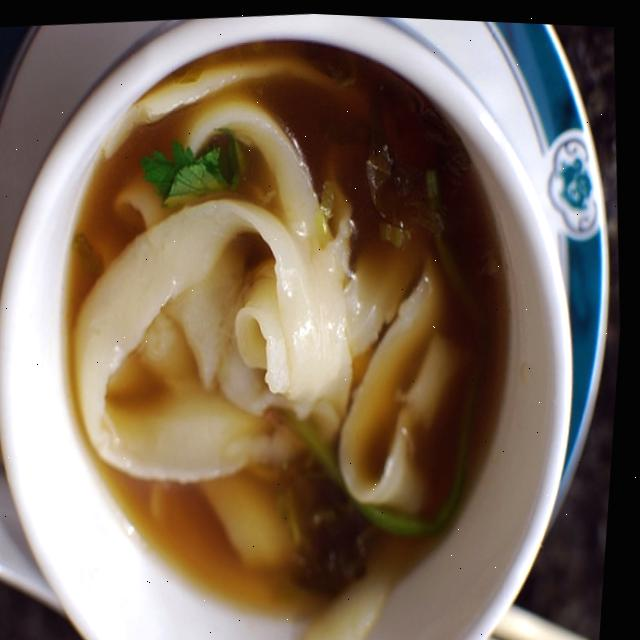面条主食: (0, 28, 580, 640)
